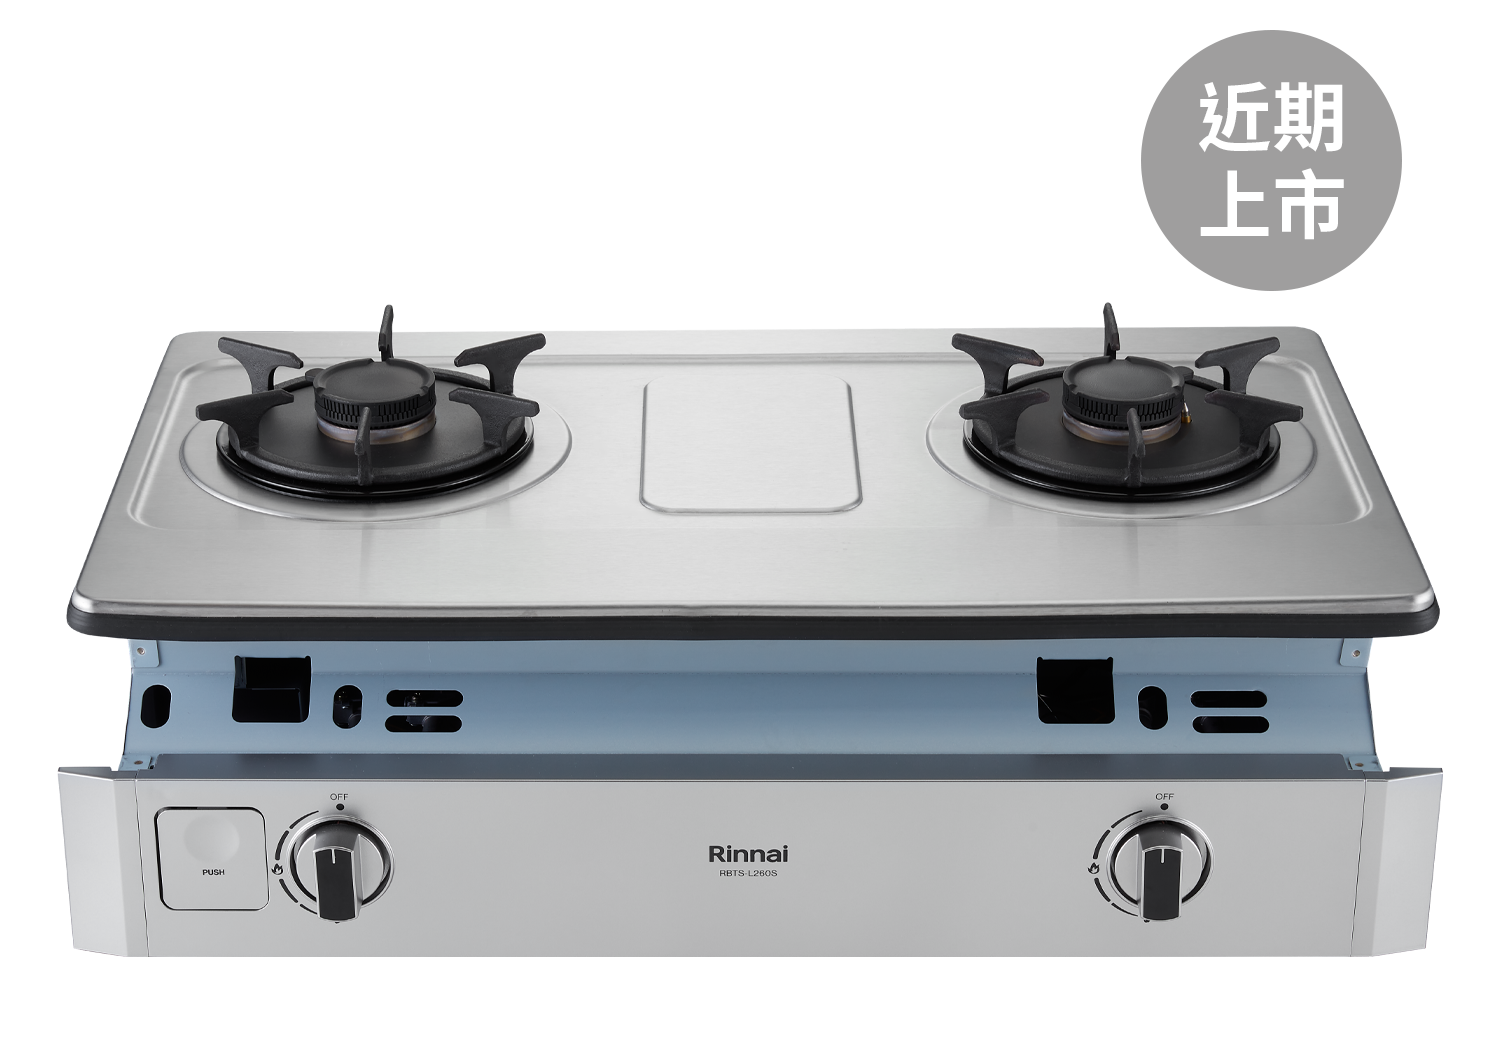gasoven: (52, 308, 1448, 970)
